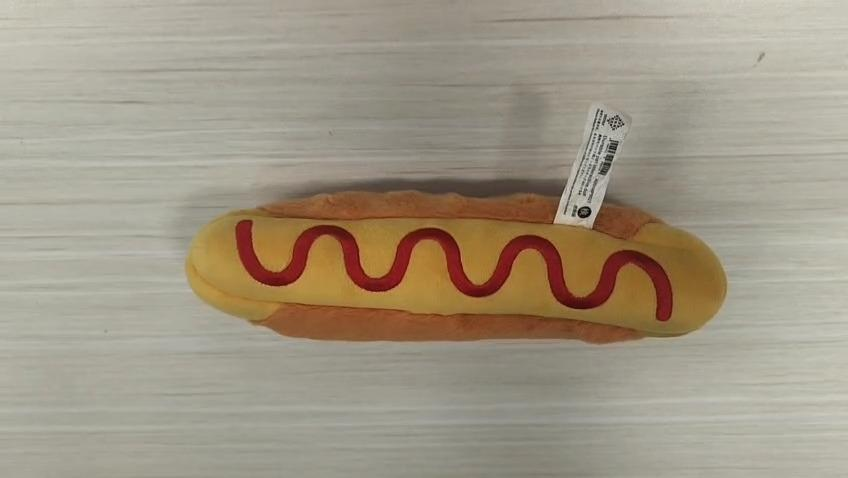hotdog: (184, 187, 728, 344)
